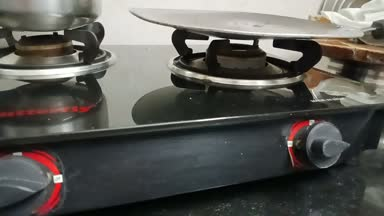flame_gas_off: (178, 36, 355, 173), (0, 24, 104, 216)
